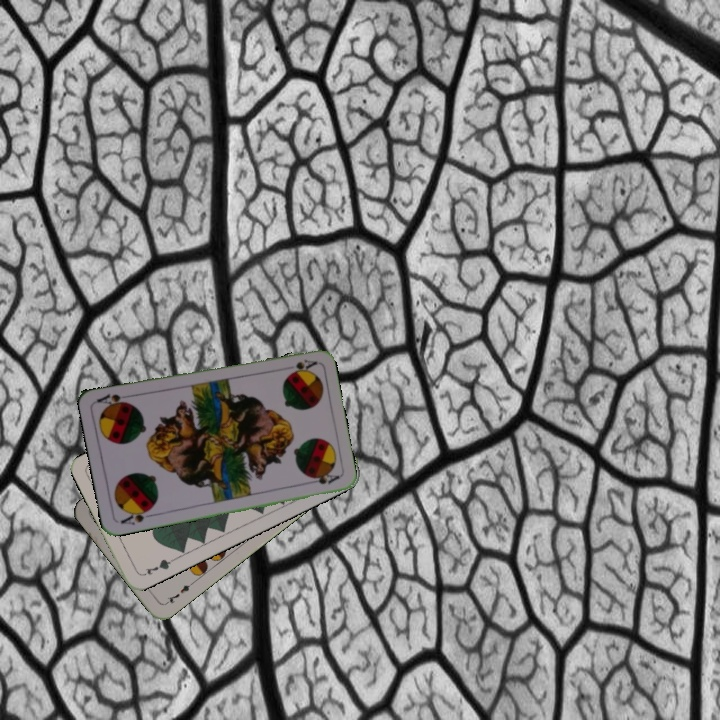E7: (161, 578, 196, 607)
G7: (138, 555, 176, 579)
SA: (117, 504, 156, 528), (290, 355, 319, 374)
